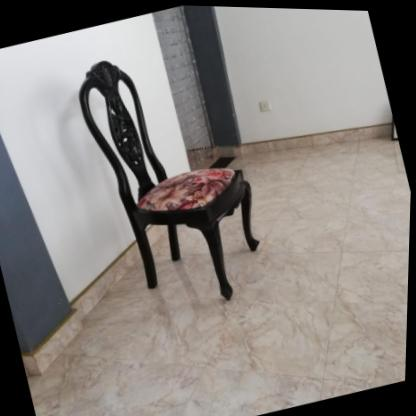Chair: (64, 29, 282, 328)
